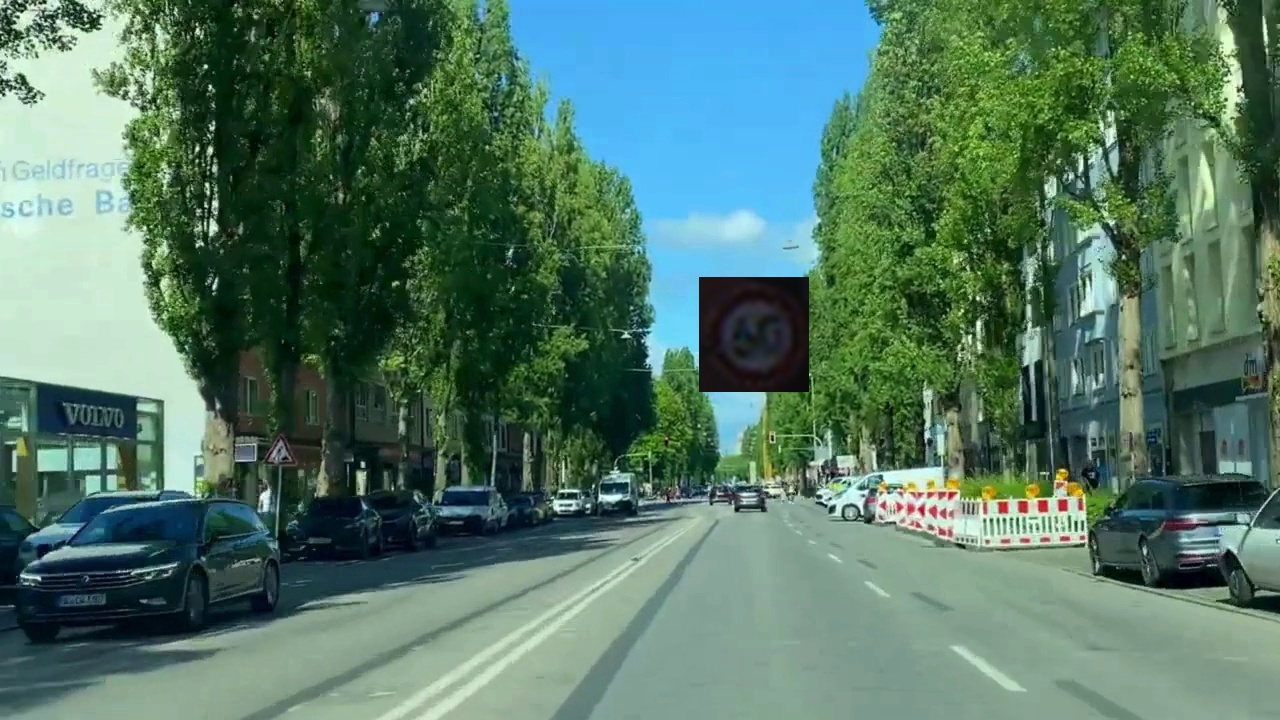Speed 60: (699, 277, 809, 392)
